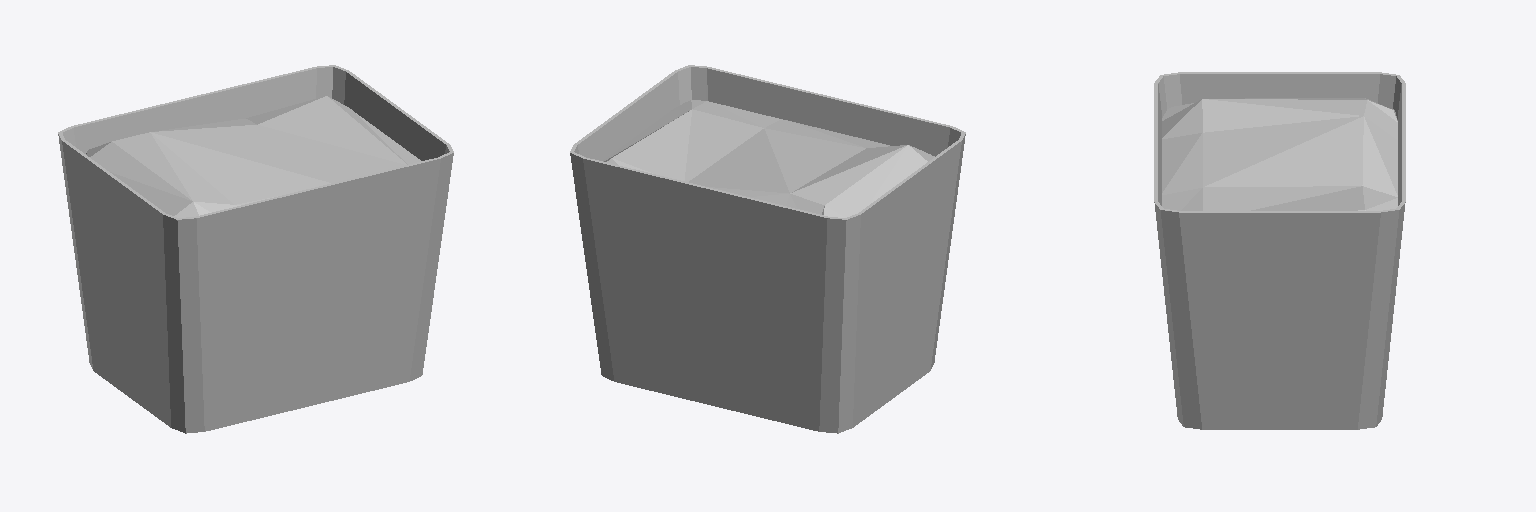
File: garage_box_filled.obj
3 renders of one model, left to right at view 1: azimuth 30°, elevation 25°; view 2: azimuth 150°, elevation 25°; view 3: azimuth 270°, elevation 25°, orthographic.
Parts seen in each view (by area): view 1: SM_GarageBoxFilled; view 2: SM_GarageBoxFilled; view 3: SM_GarageBoxFilled.
Part boxes in pixels (x1,y1,x2,y2): SM_GarageBoxFilled: (58,65,453,433); SM_GarageBoxFilled: (570,65,965,433); SM_GarageBoxFilled: (1154,72,1405,429).
Bounding box in the file's own units: 0.4631 × 0.35 × 0.3508.